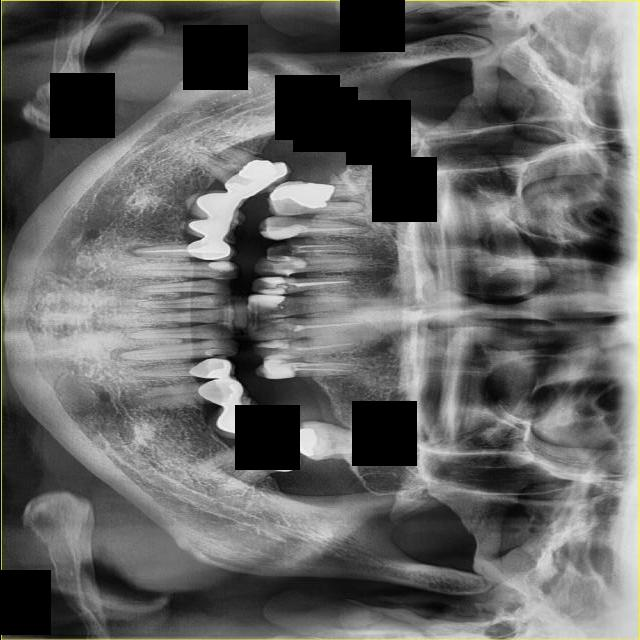74: (292, 319, 362, 331), (294, 342, 354, 352), (287, 281, 348, 287), (289, 363, 350, 369), (291, 368, 351, 373), (306, 227, 358, 231), (294, 245, 345, 248), (293, 250, 350, 252)
NucleOSS Implant: (266, 178, 335, 211), (238, 161, 272, 181), (294, 429, 317, 455)
Sterngold Implant: (264, 236, 300, 266), (208, 349, 233, 356), (237, 440, 248, 451)
Straumann Implant: (256, 255, 308, 277), (259, 222, 309, 243), (258, 354, 296, 381), (250, 276, 294, 296), (247, 294, 285, 315), (254, 338, 291, 351), (253, 329, 285, 342), (207, 260, 237, 272)
Zimmer Implant: (237, 424, 304, 482), (219, 153, 293, 205), (204, 392, 270, 450), (179, 187, 246, 225), (195, 372, 250, 412), (179, 213, 238, 244), (188, 354, 236, 382), (185, 237, 237, 262)
